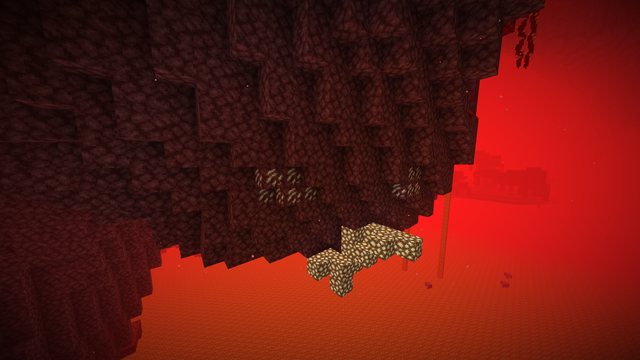quartz: (255, 168, 318, 205), (391, 165, 419, 197)
